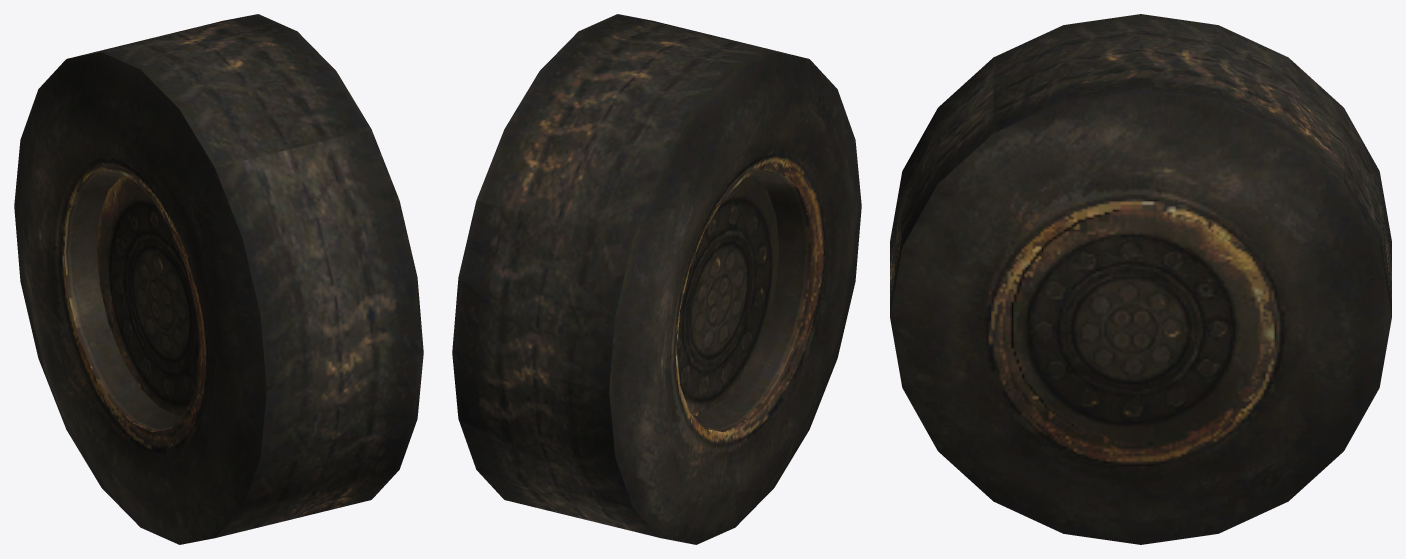
File: weels.FBX
3 renders of one model, left to right at view 1: azimuth 30°, elevation 25°; view 2: azimuth 150°, elevation 25°; view 3: azimuth 270°, elevation 25°, orthographic.
Parts seen in each view (by area): view 1: Box003; view 2: Box003; view 3: Box003.
Part boxes in pixels (box(x1,y1,x2,y2)): Box003: box(14, 14, 423, 544); Box003: box(452, 14, 861, 544); Box003: box(890, 14, 1391, 544).
Bounding box in the file's own units: 22.55 × 52.44 × 52.44.
1 material, 1 textured.
